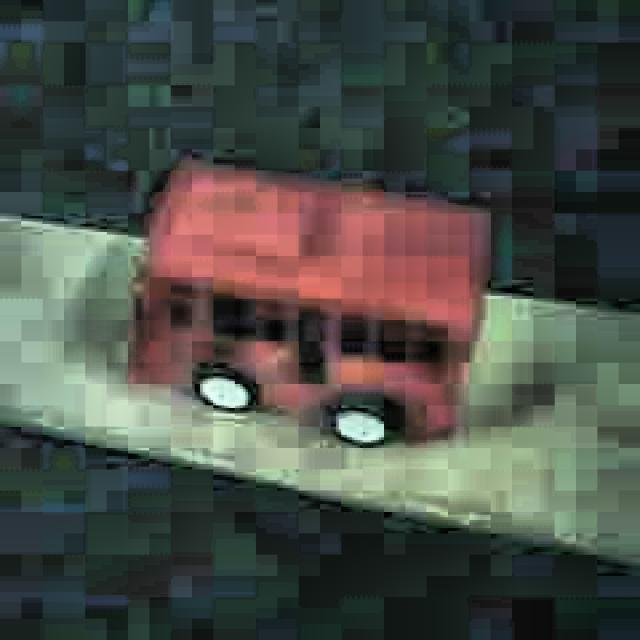bus: (128, 156, 486, 455)
